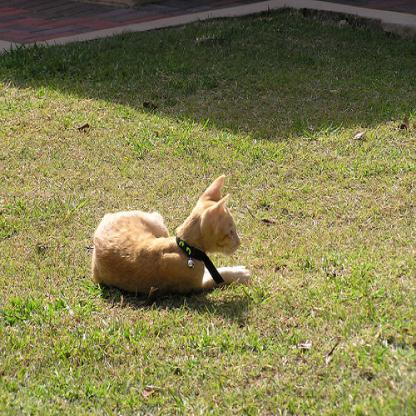cat: (91, 175, 248, 296)
